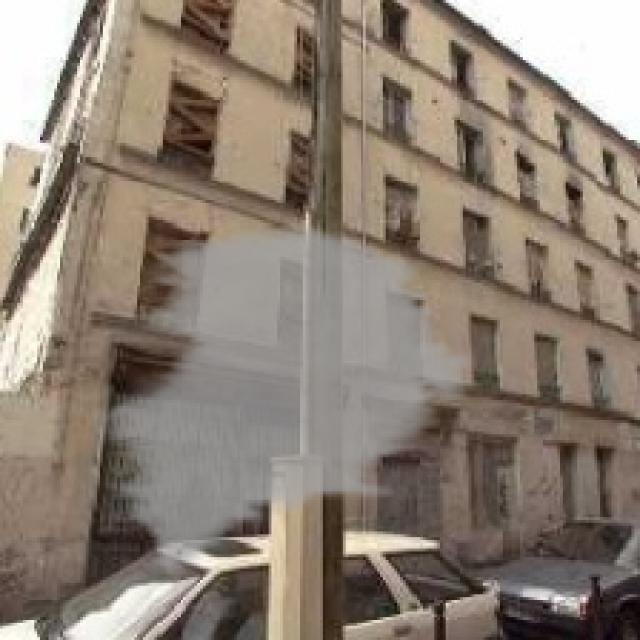smoke: (88, 220, 483, 577)
